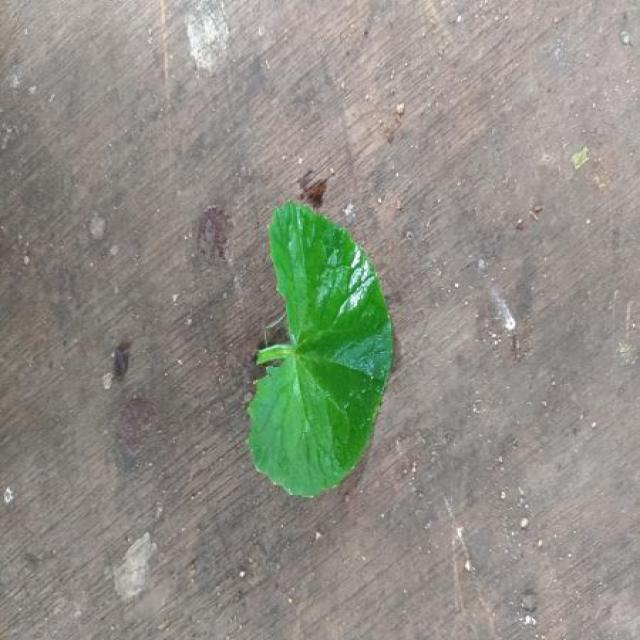bhrami: (248, 202, 393, 497)
